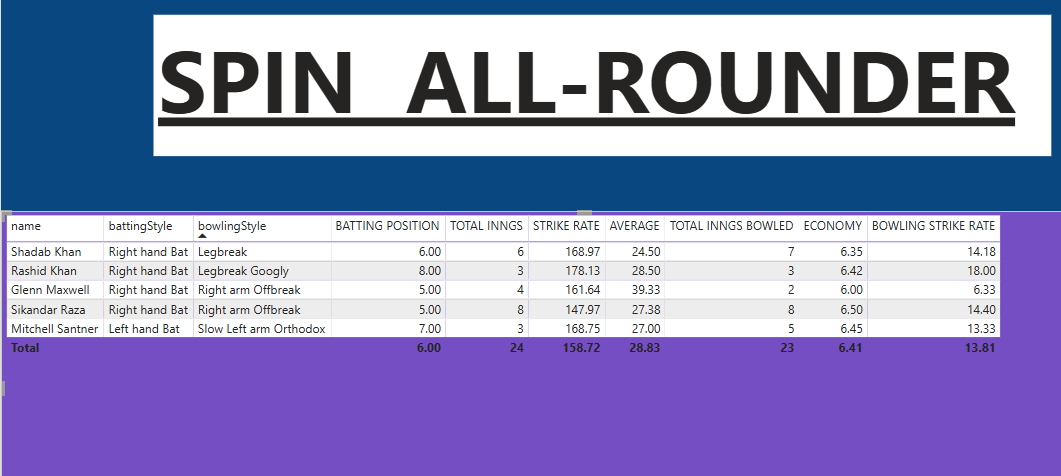

This screenshot's page, from the dashboard's own definition file:
{"tool":"powerbi","page":{"name":"SPIN ALL ROUNDER","canvas":[1280,720],"ordinal":3},"visuals":[{"type":"tableEx","fields":{"Values":["player_info.name","player_info.battingStyle","player_info.bowlingStyle","Table.BATTING POSITION","Table.TOTAL INNGS","Table.STRIKE RATE","Table.AVERAGE","Table.TOTAL INNGS BOWLED","Table.ECONOMY","Table.BOWLING STRIKE RATE"]},"box":[0,247,1280.3,389.7],"z":0},{"type":"textbox","box":[167.4,31.6,985.3,155.1],"z":1}]}

Visuals, with their boxes on the page's 1280x720 design canvas (x1, y1, x2, y2). These are canvas units, not pixel positions in the 1061x476 screenshot, which may show the page scaled, cropped or inside an application window:
tableEx - player_info.name x player_info.battingStyle: crop(0, 247, 1280, 637)
textbox: crop(167, 32, 1153, 187)
